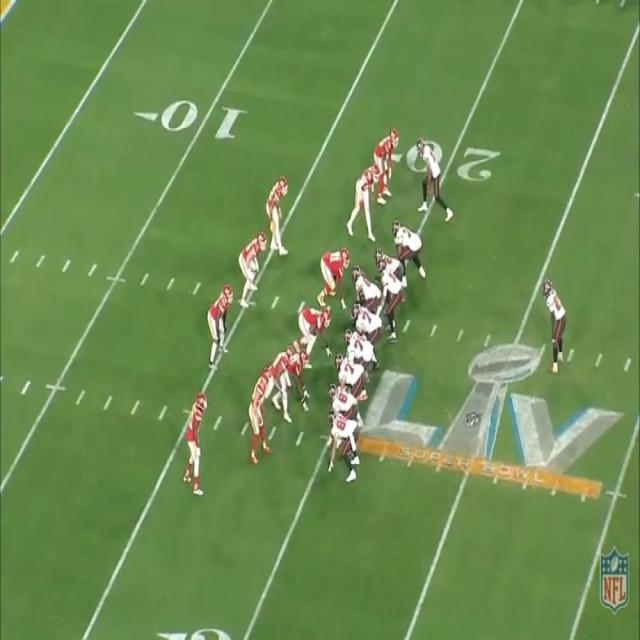center: (352, 262, 378, 310)
db: (185, 389, 207, 495), (374, 126, 396, 206), (246, 370, 268, 450), (267, 175, 289, 253)
lb: (352, 159, 376, 236), (240, 231, 262, 307), (210, 285, 229, 355)
qb: (326, 409, 359, 479), (380, 262, 402, 346)
skill: (418, 141, 447, 220), (543, 279, 567, 371), (330, 380, 359, 410)
